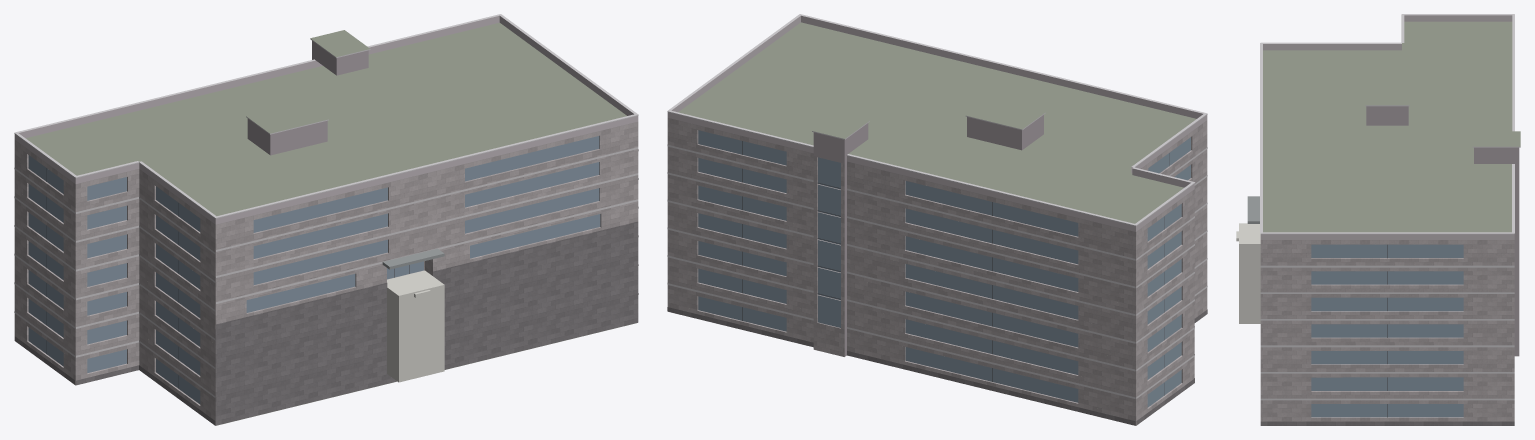
3 views of the same model, side by side, from view 1: azimuth 30°, elevation 25°; view 2: azimuth 150°, elevation 25°; view 3: azimuth 270°, elevation 25° (orthographic). The views are drawn at different scales.
Visible parts, largest first — view 1: b330__wall, b330__roof, b330__base, b330__glass, b330__trim, b330__parapet, b330__entranceStair, b330__wall2, b330__canopy; view 2: b330__wall, b330__roof, b330__glass, b330__trim, b330__parapet, b330__wall2, b330__base; view 3: b330__roof, b330__wall, b330__glass, b330__trim, b330__parapet, b330__wall2, b330__entranceStair, b330__base, b330__canopy.
Boxes of the visible parts, x1,y1,x2,y2 form: b330__wall: [14, 122, 638, 425]; b330__roof: [26, 22, 636, 425]; b330__base: [14, 221, 638, 425]; b330__glass: [28, 136, 600, 404]; b330__trim: [14, 14, 638, 397]; b330__parapet: [14, 15, 638, 224]; b330__entranceStair: [387, 270, 444, 382]; b330__wall2: [247, 41, 368, 155]; b330__canopy: [382, 248, 444, 269]; b330__wall: [667, 118, 1207, 425]; b330__roof: [678, 22, 1196, 223]; b330__glass: [698, 130, 1190, 407]; b330__trim: [667, 14, 1207, 398]; b330__parapet: [667, 15, 1207, 231]; b330__wall2: [813, 115, 1043, 356]; b330__base: [667, 307, 1207, 425]; b330__roof: [1263, 21, 1520, 232]; b330__wall: [1260, 240, 1514, 421]; b330__glass: [1311, 244, 1463, 417]; b330__trim: [1260, 14, 1520, 400]; b330__parapet: [1260, 15, 1514, 239]; b330__wall2: [1366, 106, 1519, 356]; b330__entranceStair: [1236, 223, 1260, 323]; b330__base: [1260, 421, 1514, 425]; b330__canopy: [1247, 196, 1259, 223].
Bounding box in the file's own units: 63.86 × 28.49 × 34.94.
11 materials, 2 textured.
